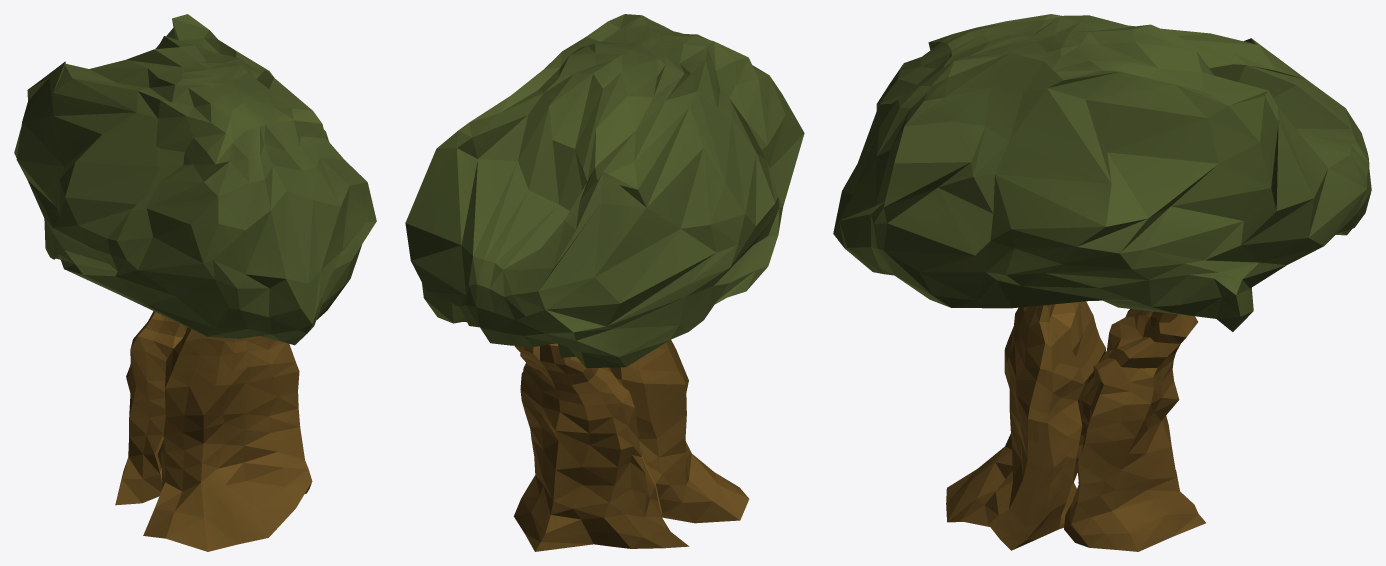
The model's file is ARBUSTO_1.fbx.
3 views of the same model, side by side, from view 1: azimuth 30°, elevation 25°; view 2: azimuth 150°, elevation 25°; view 3: azimuth 270°, elevation 25° (orthographic). The views are drawn at different scales.
Visible parts, largest first — view 1: Cube.001, Cube; view 2: Cube.001, Cube; view 3: Cube.001, Cube.
Part boxes in pixels (<box>): Cube.001: <box>14,14,376,345</box>; Cube: <box>115,311,312,551</box>; Cube.001: <box>405,14,804,367</box>; Cube: <box>513,339,749,551</box>; Cube.001: <box>833,14,1371,331</box>; Cube: <box>946,301,1205,551</box>.
Bounding box in the file's own units: 428 × 674 × 669.
